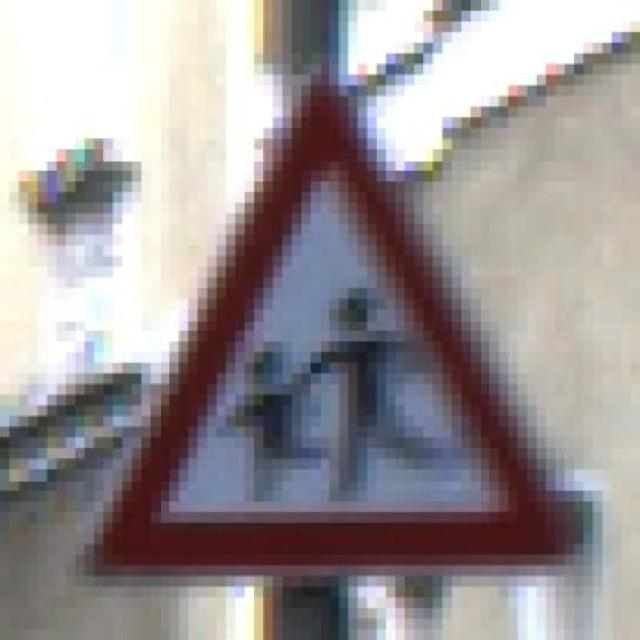Beware of children: (75, 64, 574, 576)
